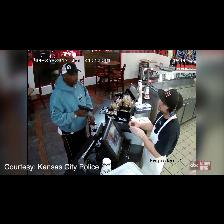person: (129, 89, 183, 174), (50, 63, 94, 164)
